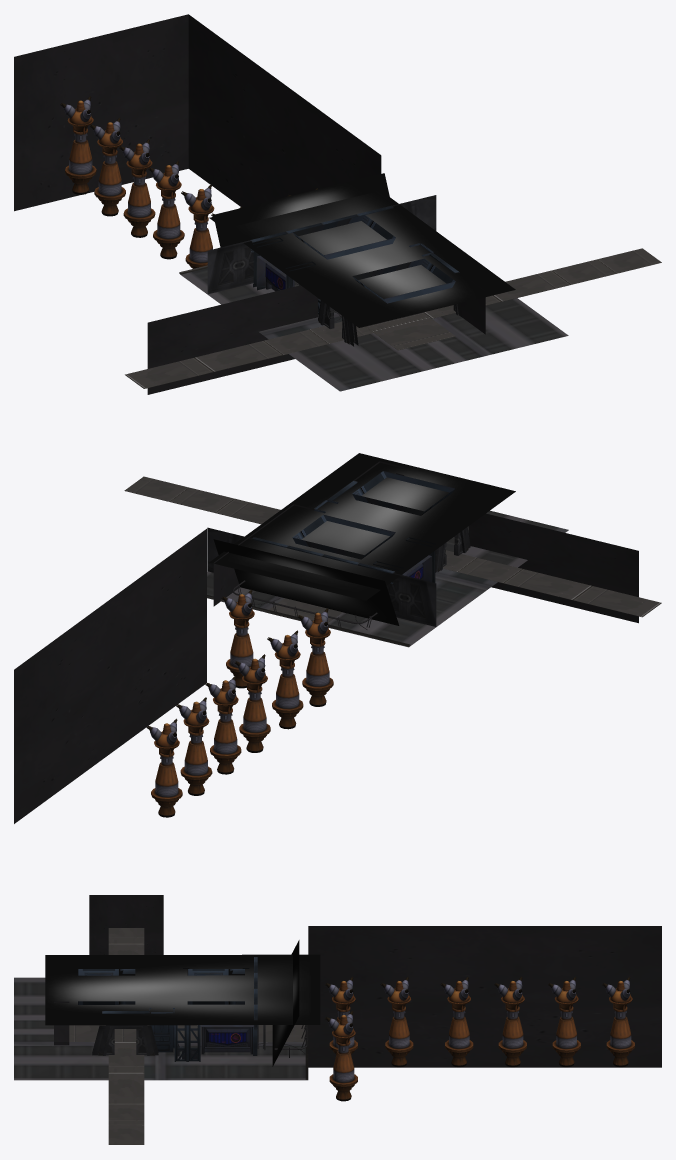
Rendered from env_endor_bunkerinterior_pre.glb.
3 renders of one model, top to bottom at view 1: azimuth 30°, elevation 25°; view 2: azimuth 150°, elevation 25°; view 3: azimuth 270°, elevation 25°, orthographic. The views are drawn at different scales.
Visible parts, largest first — view 1: bunkerint_hallshell_01_mesh (×2), end_lightblocker_mesh (×2), bunkerint_floor_mesh, end_conduit_mesh (×5), bunkerintwalk_01_mesh (×3), bunkerintwall_backwall_01_mesh, bunkerint_ceilingpanel_01_mesh (×2), bunkerint_panel_02_mesh, end_console_03_mesh, bunkerint_panel_01_mesh; view 2: bunkerint_hallshell_01_mesh (×2), end_lightblocker_mesh (×2), end_conduit_mesh (×7), bunkerintwalk_01_mesh (×3), bunkerint_floor_mesh, bunkerintwall_backwall_01_mesh, bunkerint_ceilingpanel_01_mesh (×2), bunkerint_panel_02_mesh, bunkerint_panel_01_mesh; view 3: bunkerint_hallshell_01_mesh (×2), end_lightblocker_mesh (×2), end_conduit_mesh (×7), bunkerint_floor_mesh, bunkerintwalk_01_mesh (×3), end_console_03_mesh, bunkerint_panel_01_mesh, bunkerint_ceilingpanel_01_mesh (×2), end_pillar_02_mesh (×2), end_wallpanel_02_dtl_mesh.
Part boxes in pixels (x1=…): bunkerint_hallshell_01_mesh (×2): x1=14, y1=14, x2=381, y2=394; end_lightblocker_mesh (×2): x1=209, y1=173, x2=515, y2=327; bunkerint_floor_mesh: x1=180, y1=268, x2=568, y2=391; end_conduit_mesh (×5): x1=60, y1=96, x2=214, y2=268; bunkerintwalk_01_mesh (×3): x1=125, y1=248, x2=661, y2=388; bunkerintwall_backwall_01_mesh: x1=207, y1=195, x2=436, y2=294; bunkerint_ceilingpanel_01_mesh (×2): x1=293, y1=215, x2=455, y2=303; bunkerint_panel_02_mesh: x1=375, y1=190, x2=485, y2=334; end_console_03_mesh: x1=257, y1=255, x2=294, y2=291; bunkerint_panel_01_mesh: x1=318, y1=300, x2=358, y2=346; bunkerint_hallshell_01_mesh (×2): x1=14, y1=513, x2=638, y2=823; end_lightblocker_mesh (×2): x1=209, y1=453, x2=515, y2=625; end_conduit_mesh (×7): x1=146, y1=589, x2=333, y2=817; bunkerintwalk_01_mesh (×3): x1=124, y1=476, x2=661, y2=622; bunkerint_floor_mesh: x1=207, y1=510, x2=568, y2=647; bunkerintwall_backwall_01_mesh: x1=207, y1=527, x2=436, y2=626; bunkerint_ceilingpanel_01_mesh (×2): x1=292, y1=471, x2=455, y2=559; bunkerint_panel_02_mesh: x1=213, y1=461, x2=404, y2=606; bunkerint_panel_01_mesh: x1=435, y1=527, x2=470, y2=572; bunkerint_hallshell_01_mesh (×2): x1=89, y1=895, x2=661, y2=1067; end_lightblocker_mesh (×2): x1=45, y1=940, x2=320, y2=1066; end_conduit_mesh (×7): x1=325, y1=976, x2=634, y2=1101; bunkerint_floor_mesh: x1=14, y1=977, x2=307, y2=1080; bunkerintwalk_01_mesh (×3): x1=69, y1=928, x2=305, y2=1144; end_console_03_mesh: x1=201, y1=1025, x2=253, y2=1054; bunkerint_panel_01_mesh: x1=92, y1=1025, x2=158, y2=1055; bunkerint_ceilingpanel_01_mesh (×2): x1=78, y1=969, x2=244, y2=1004; end_pillar_02_mesh (×2): x1=174, y1=1025, x2=200, y2=1061; end_wallpanel_02_dtl_mesh: x1=151, y1=1012, x2=172, y2=1052.
Size of the model in its own units: 48.82 by 13.91 by 57.67.
Materials: 15 (15 with a texture image).
